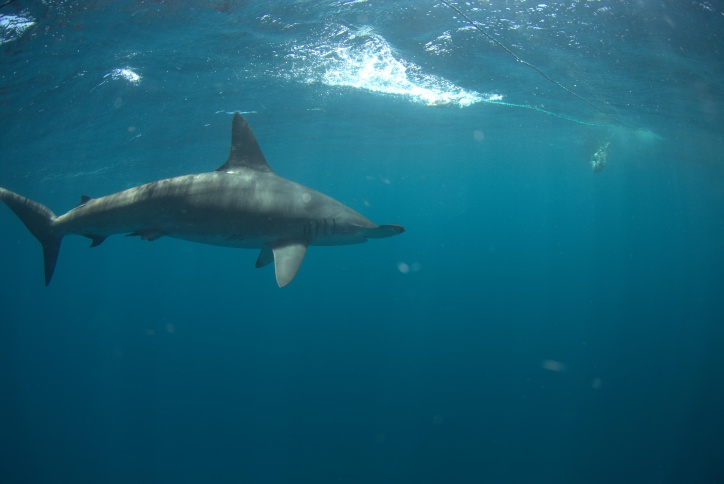Hammer: (1, 99, 435, 317)
